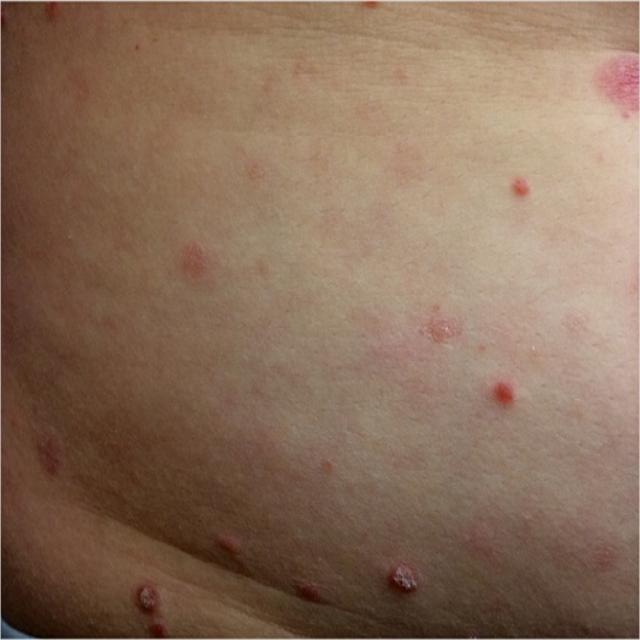Rosacea: (591, 50, 640, 118), (24, 424, 71, 488), (130, 585, 179, 640), (386, 560, 426, 602), (207, 530, 248, 561), (504, 172, 536, 208), (485, 380, 521, 410)
